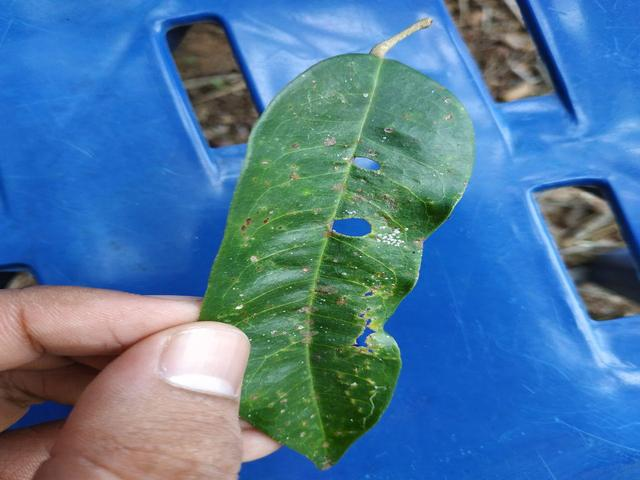blight spot: (352, 281, 386, 362), (310, 205, 378, 239), (346, 148, 388, 180)
